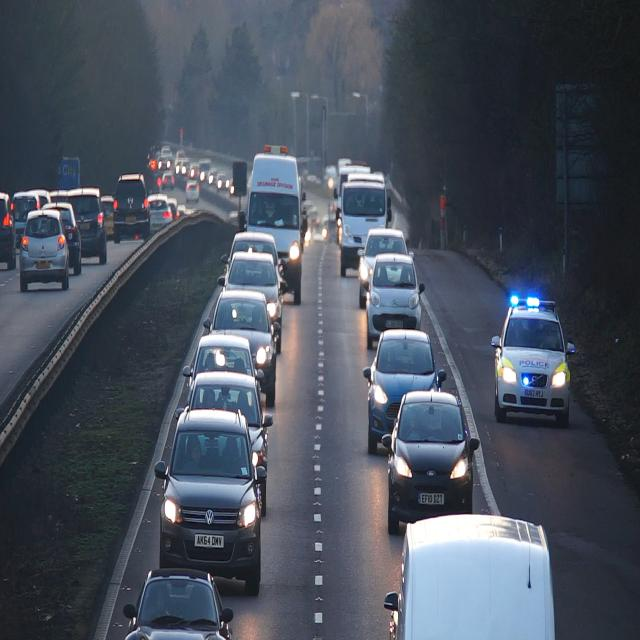emergency lights: (502, 285, 557, 318), (521, 369, 530, 393)
